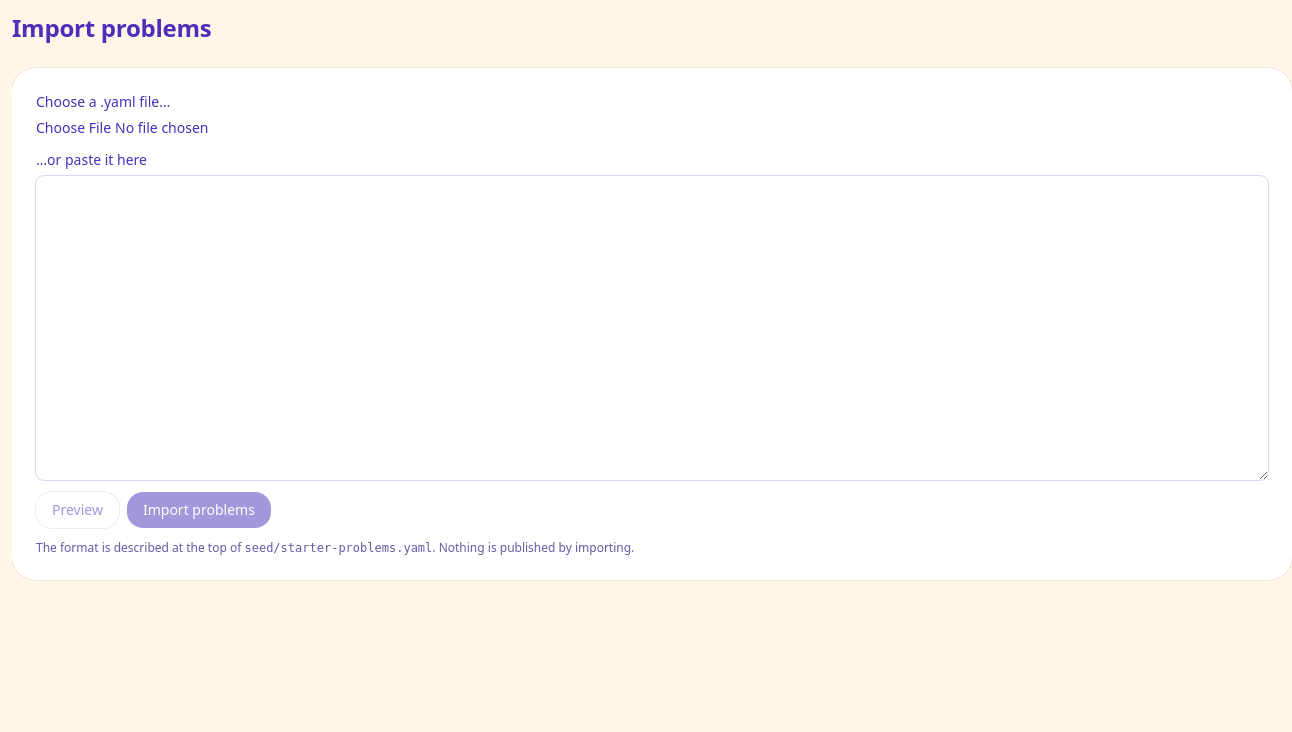
Test: a file already in the bank says there is nothing new, rather than a dead button
In the text box labelled "…or paste it here": point(652, 328) [36,176,1268,480], type "problems: none"
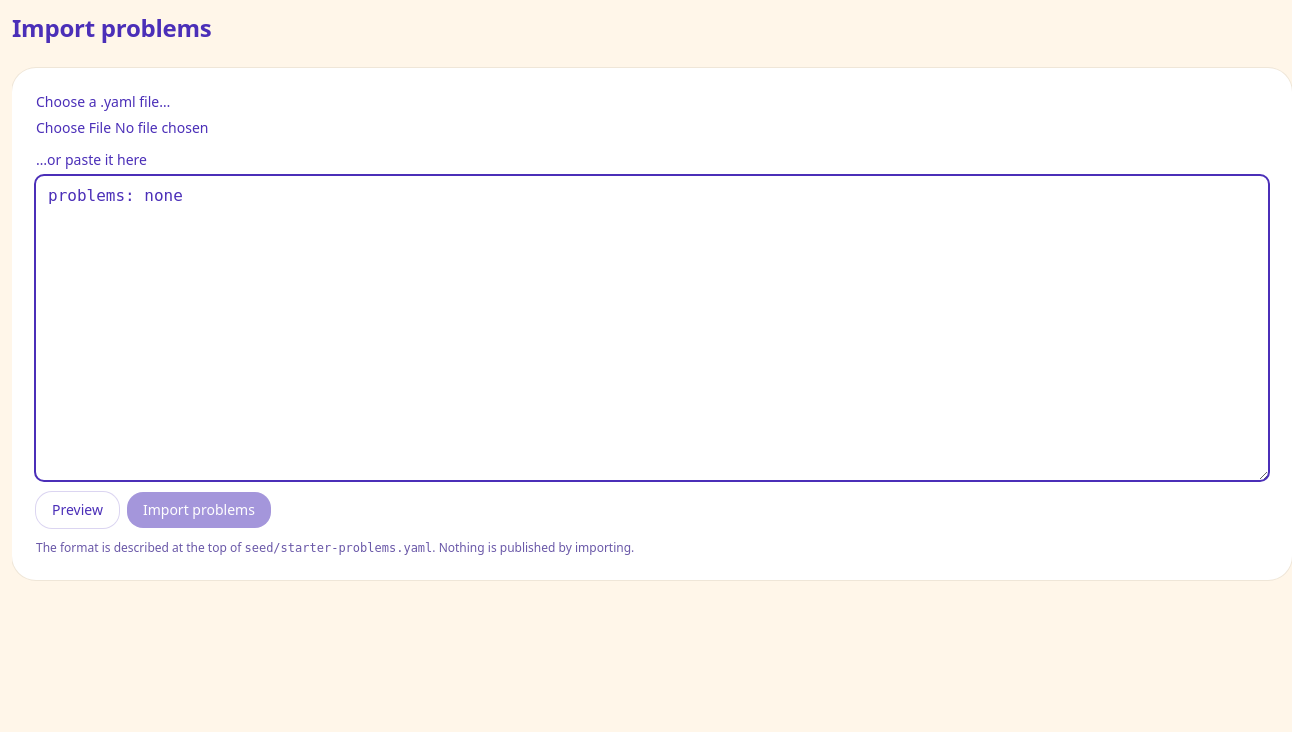
Click the button "Preview": point(77, 510) [36,492,119,528]
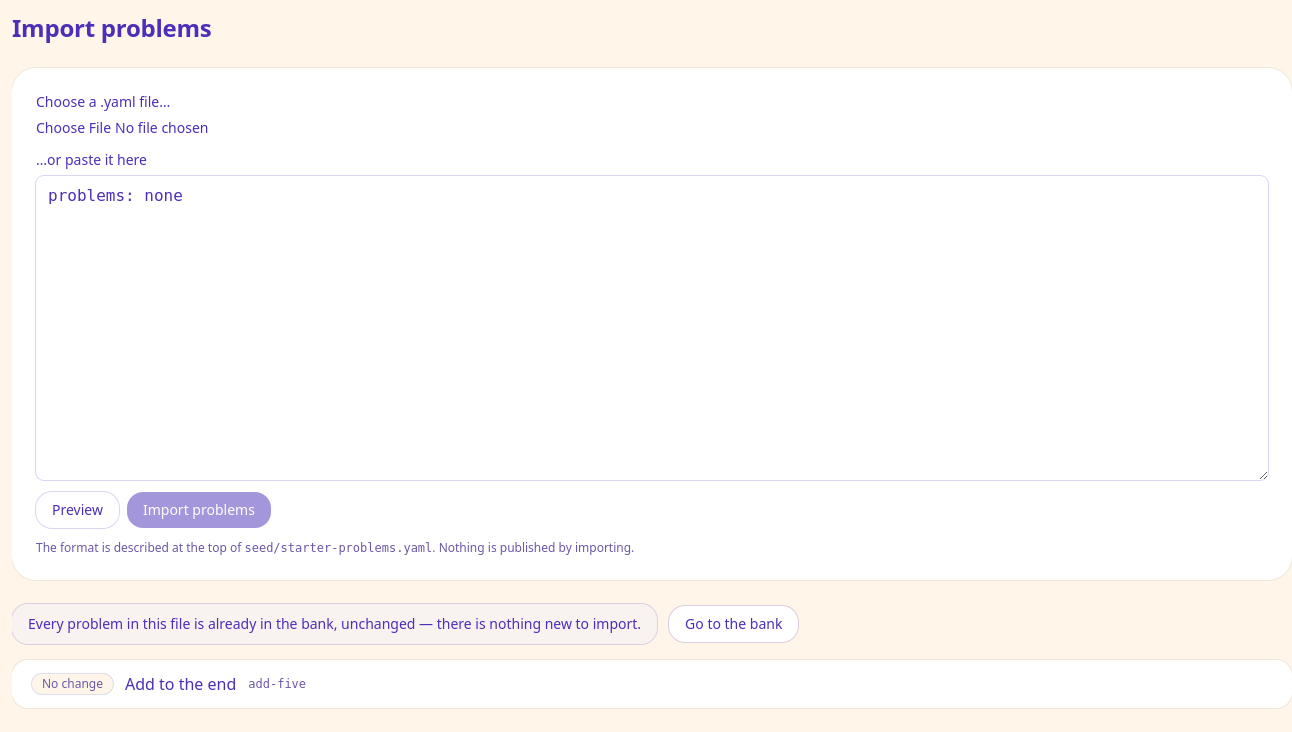
Now the text "already in the bank, unchanged" is shown, box [28,614,641,633]
Now the button "Go to the bank" is shown, box [669,606,798,642]
